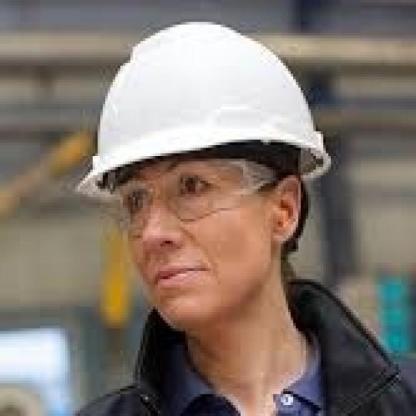capacete: (70, 14, 338, 207)
oculos: (105, 160, 290, 230)
